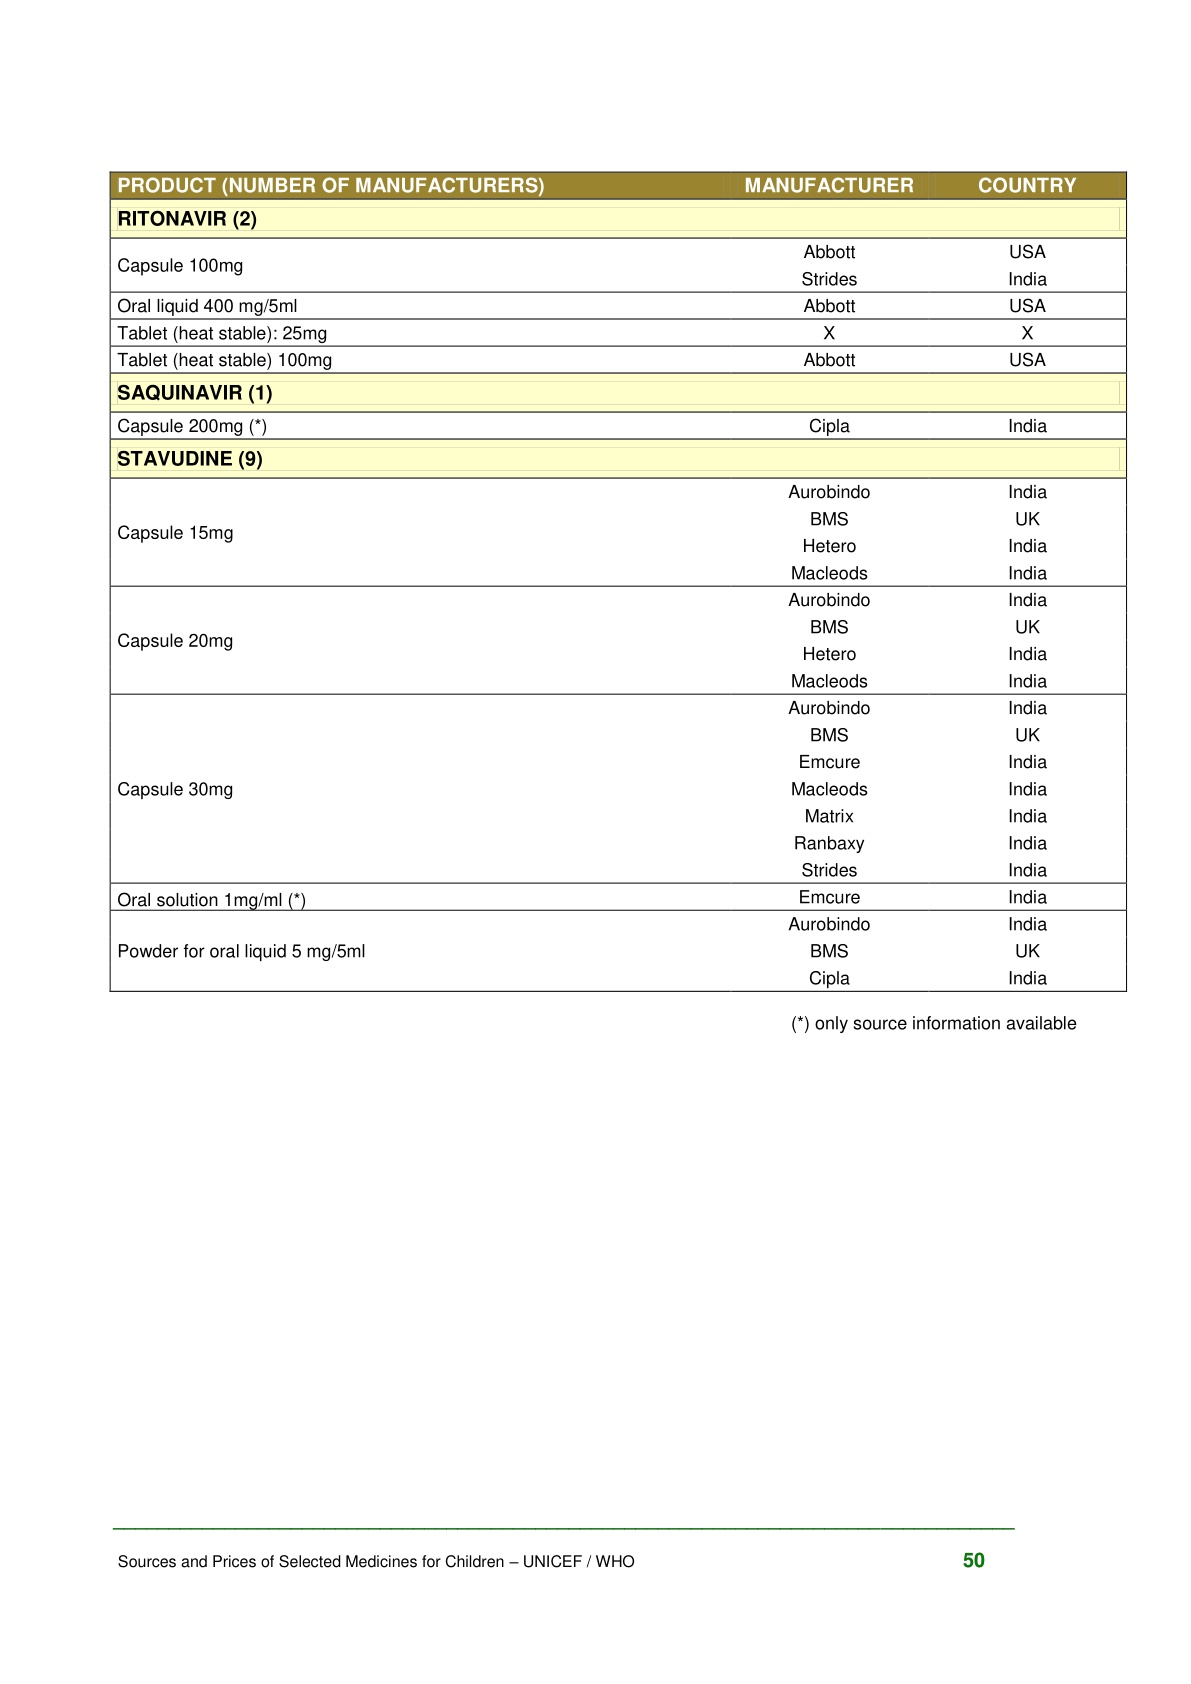partial_lined: (108, 171, 1129, 993)
